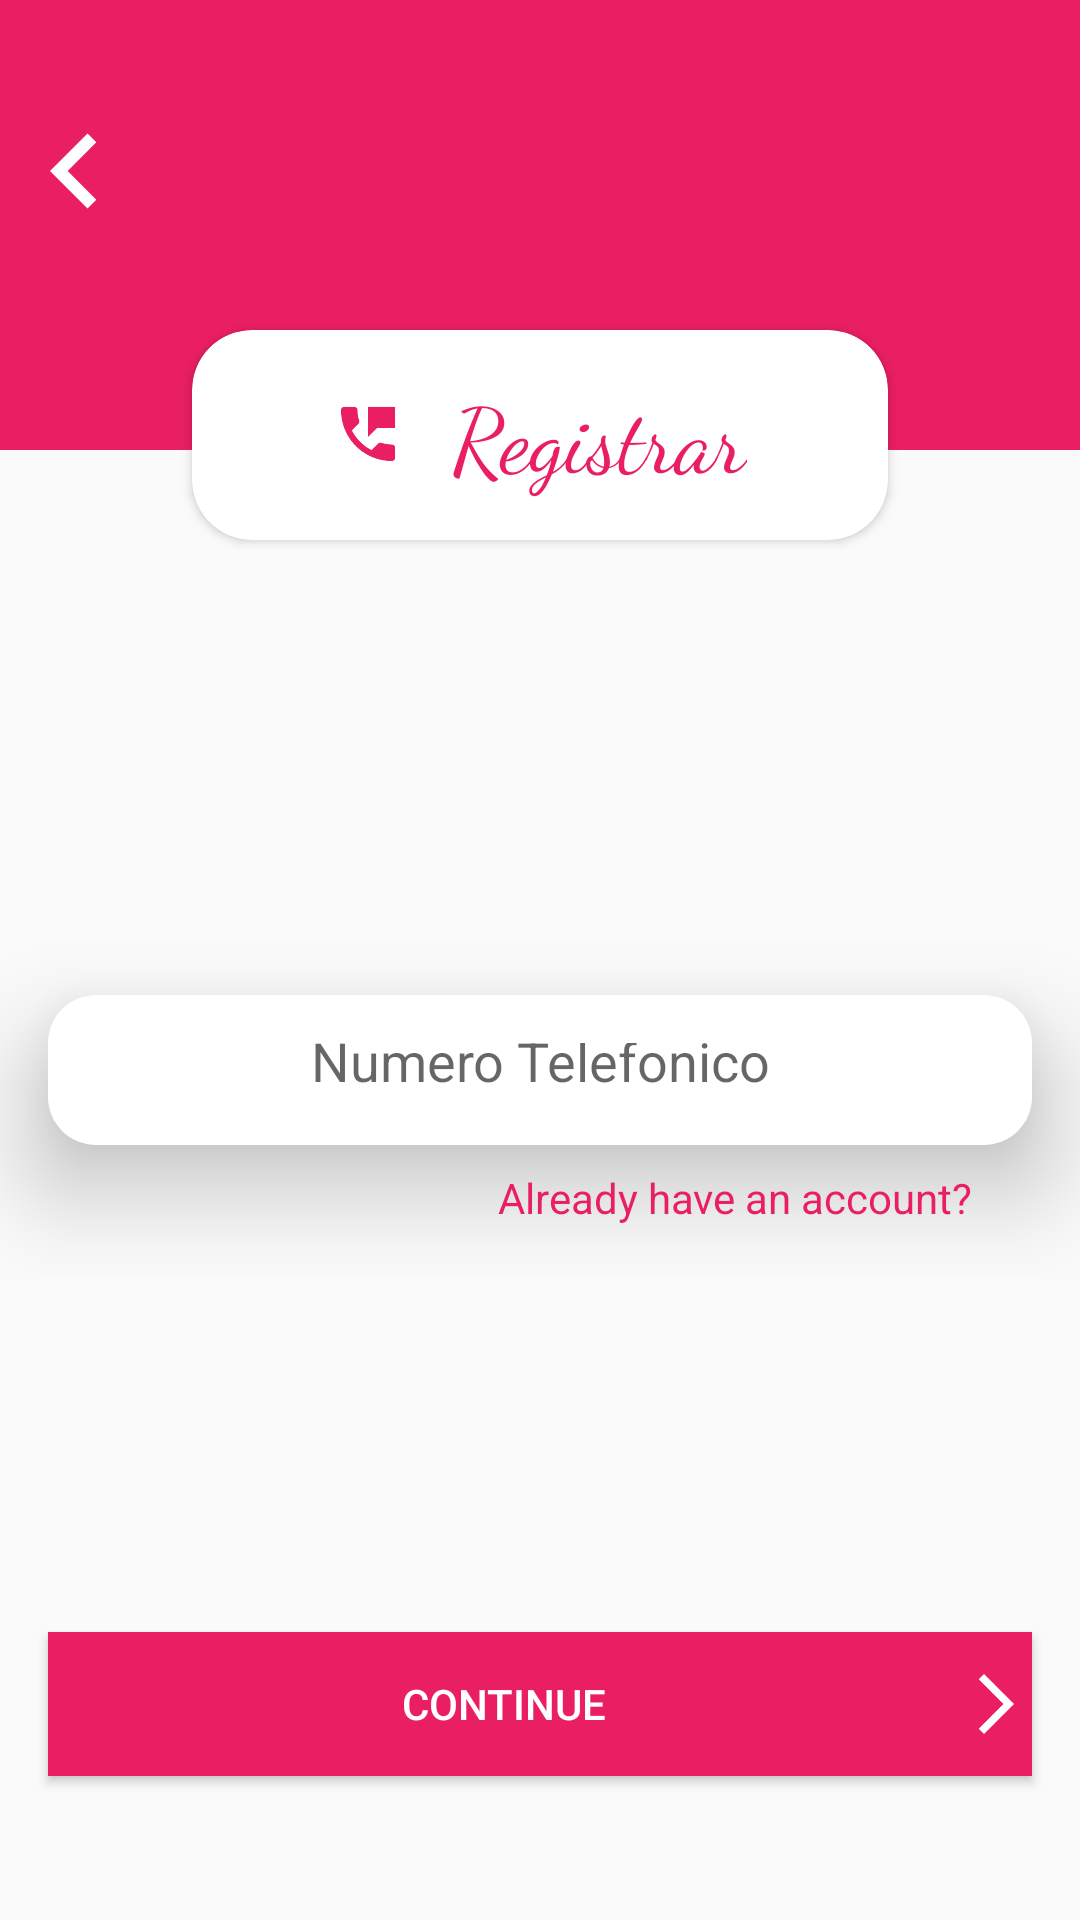

Locate icon controls on the screen. Image size 1080 x 1920, boxes as [left=x1, top=y1, right=x2, bottom=y2].
back: [left=50, top=133, right=96, bottom=209]
